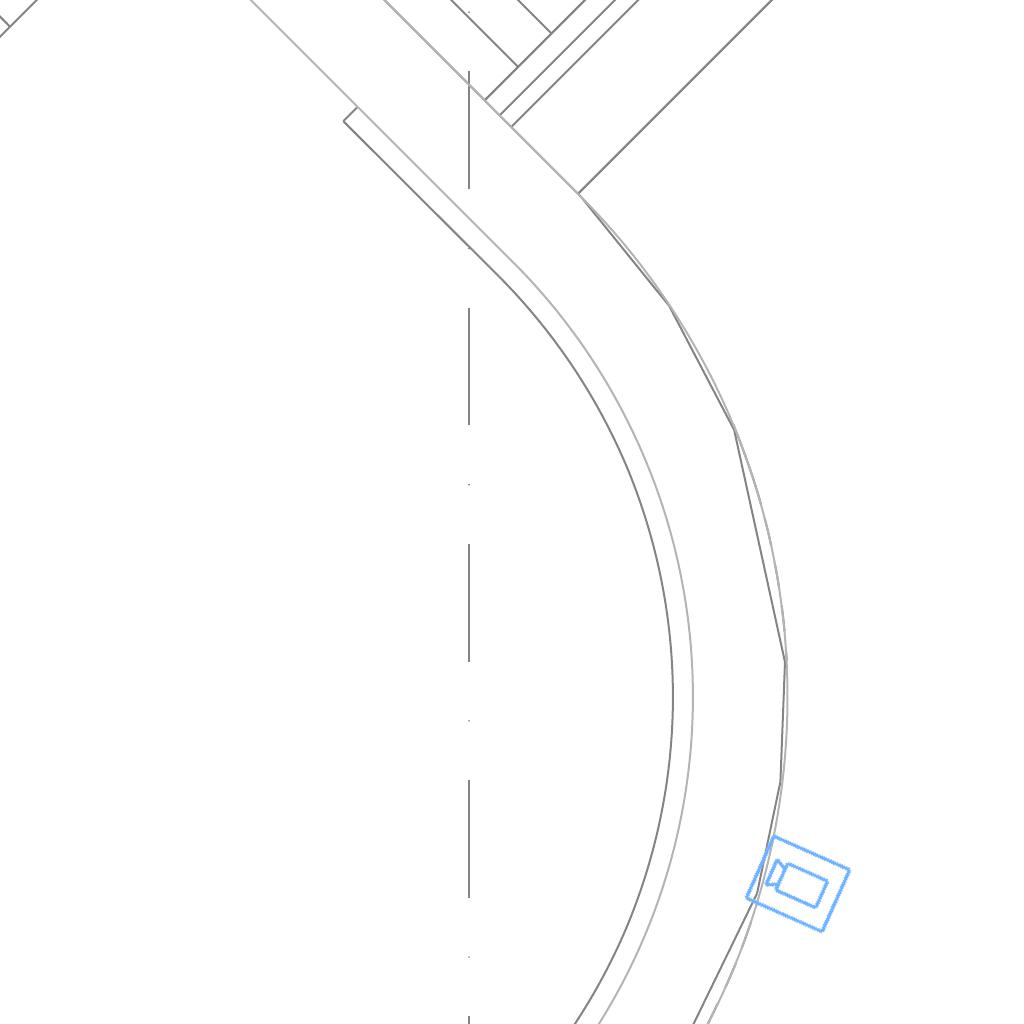KFO_Kamera_mit_Festobjektiv: (741, 829, 856, 938)
